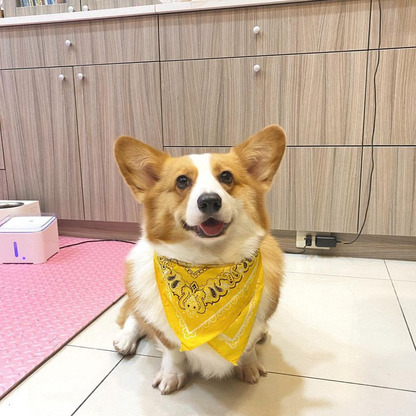Corgi: (107, 115, 298, 399)
